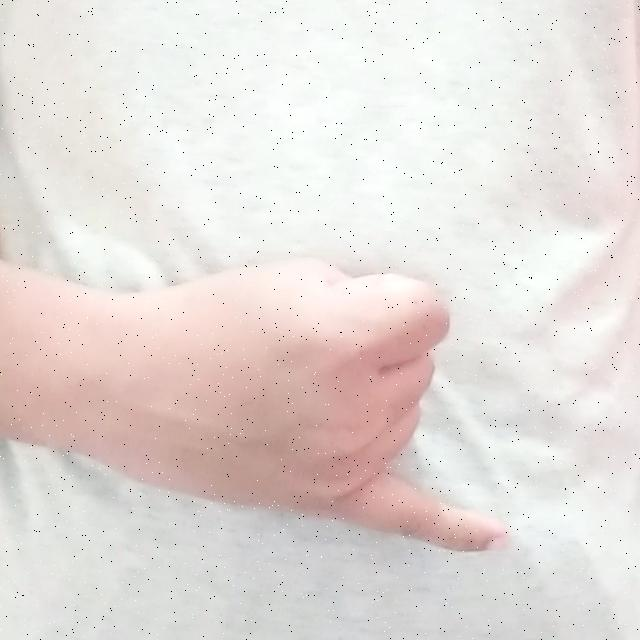J: (63, 244, 524, 564)
